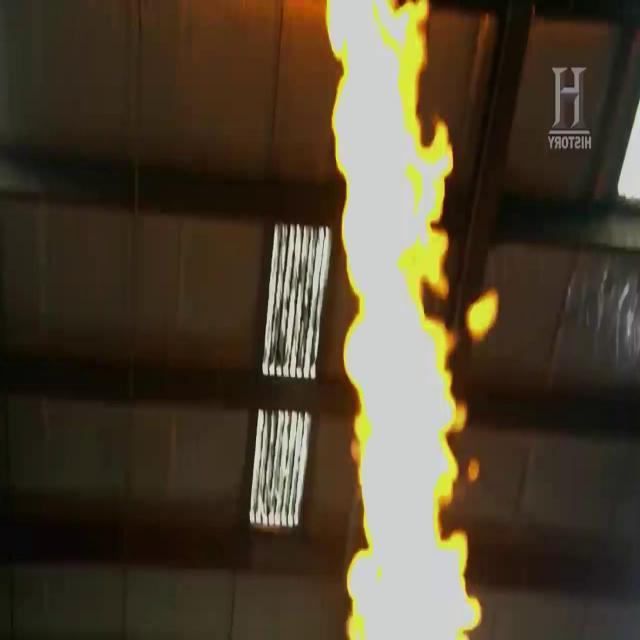Fire: (318, 5, 500, 638)
